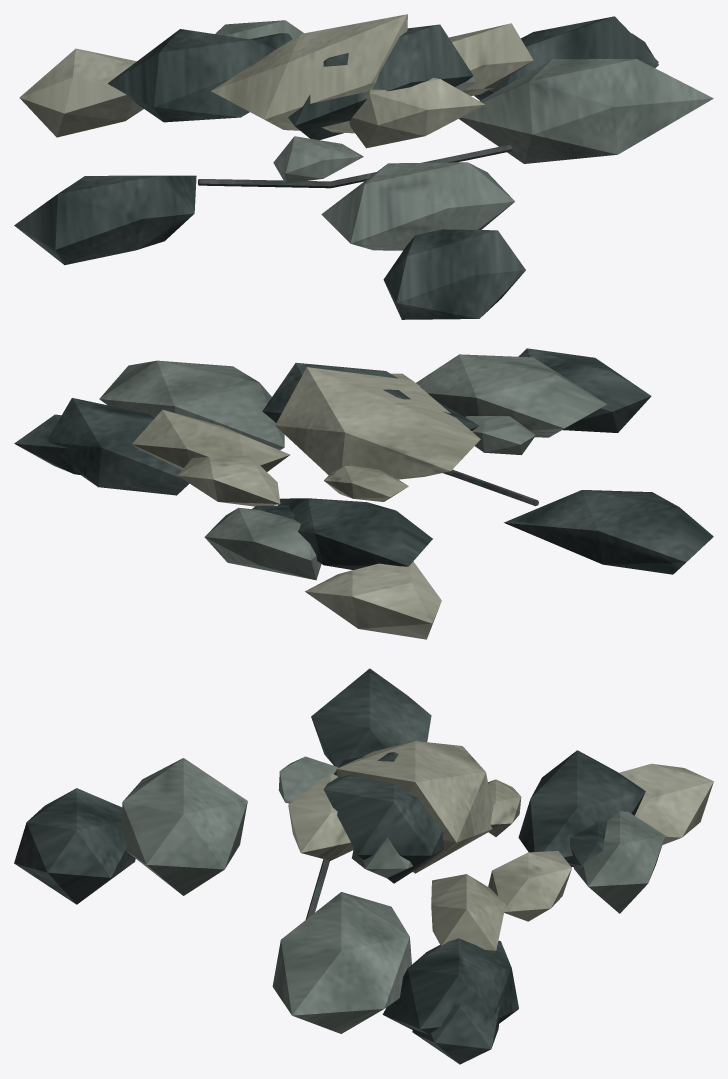
File: 0125_scree_pile_25.glb
3 renders of one model, top to bottom at view 1: azimuth 30°, elevation 25°; view 2: azimuth 150°, elevation 25°; view 3: azimuth 270°, elevation 25°, orthographic. The views are drawn at different scales.
Visible parts, largest first — view 1: stone_dark, stone, stone_light, iron; view 2: stone_dark, stone_light, stone, iron; view 3: stone_dark, stone, stone_light.
Part boxes in pixels (bbox=[...]): stone_dark: bbox=[14, 16, 658, 319]; stone: bbox=[215, 20, 713, 250]; stone_light: bbox=[19, 14, 533, 148]; iron: bbox=[198, 144, 512, 188]; stone_dark: bbox=[14, 348, 713, 574]; stone_light: bbox=[132, 367, 480, 639]; stone: bbox=[99, 354, 606, 580]; iron: bbox=[443, 469, 538, 506]; stone_dark: bbox=[14, 668, 645, 1064]; stone: bbox=[121, 756, 665, 1033]; stone_light: bbox=[288, 741, 713, 953].
Size of the model in its own units: 3.38 by 0.7209 by 2.91.
4 materials, 4 textured.
